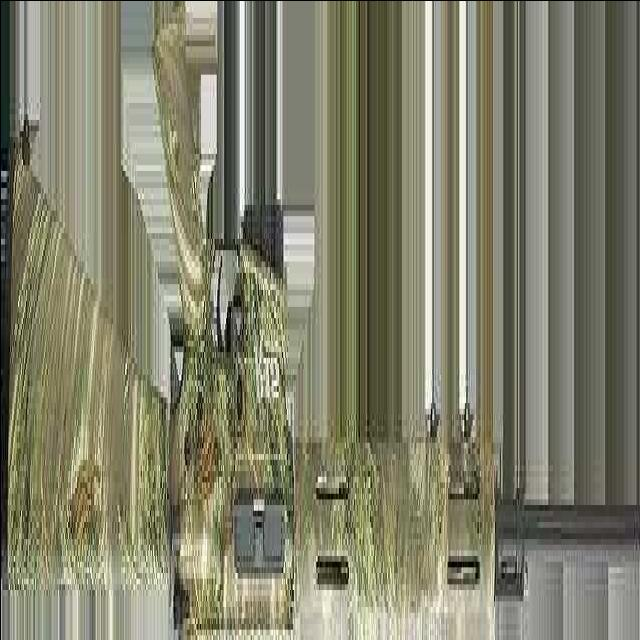heavyweapon: (1, 24, 640, 640)
